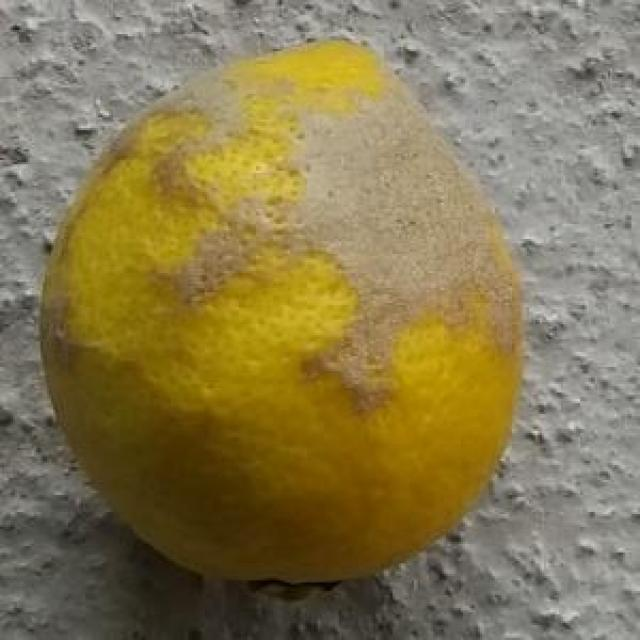lemon: (32, 32, 524, 582)
